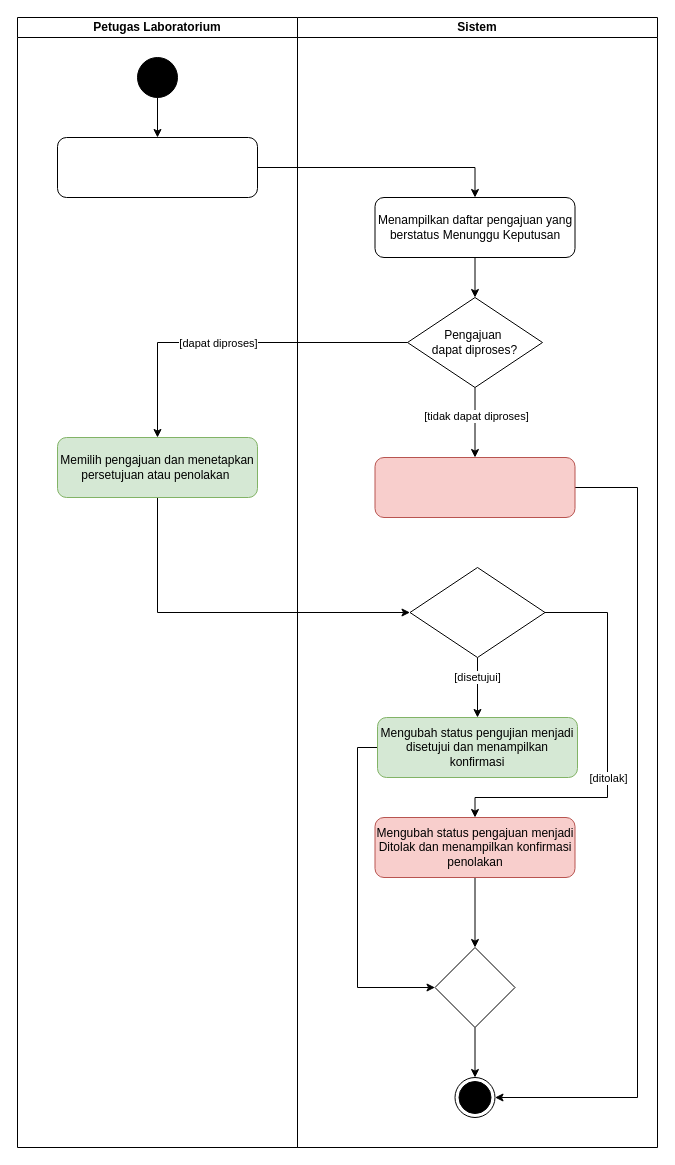
Some shapes in this 675 by 1165 pixel diagram are drawn without their labels. Each missing label, with the box of its shape:
Membuka daftar pengajuan yang berstatus Menunggu Keputusan: (56, 136, 258, 198)
Menampilkan pesan pengajuan tidak dapat diproses: (374, 456, 575, 518)
Pengajuan disetujui?: (409, 566, 545, 658)
